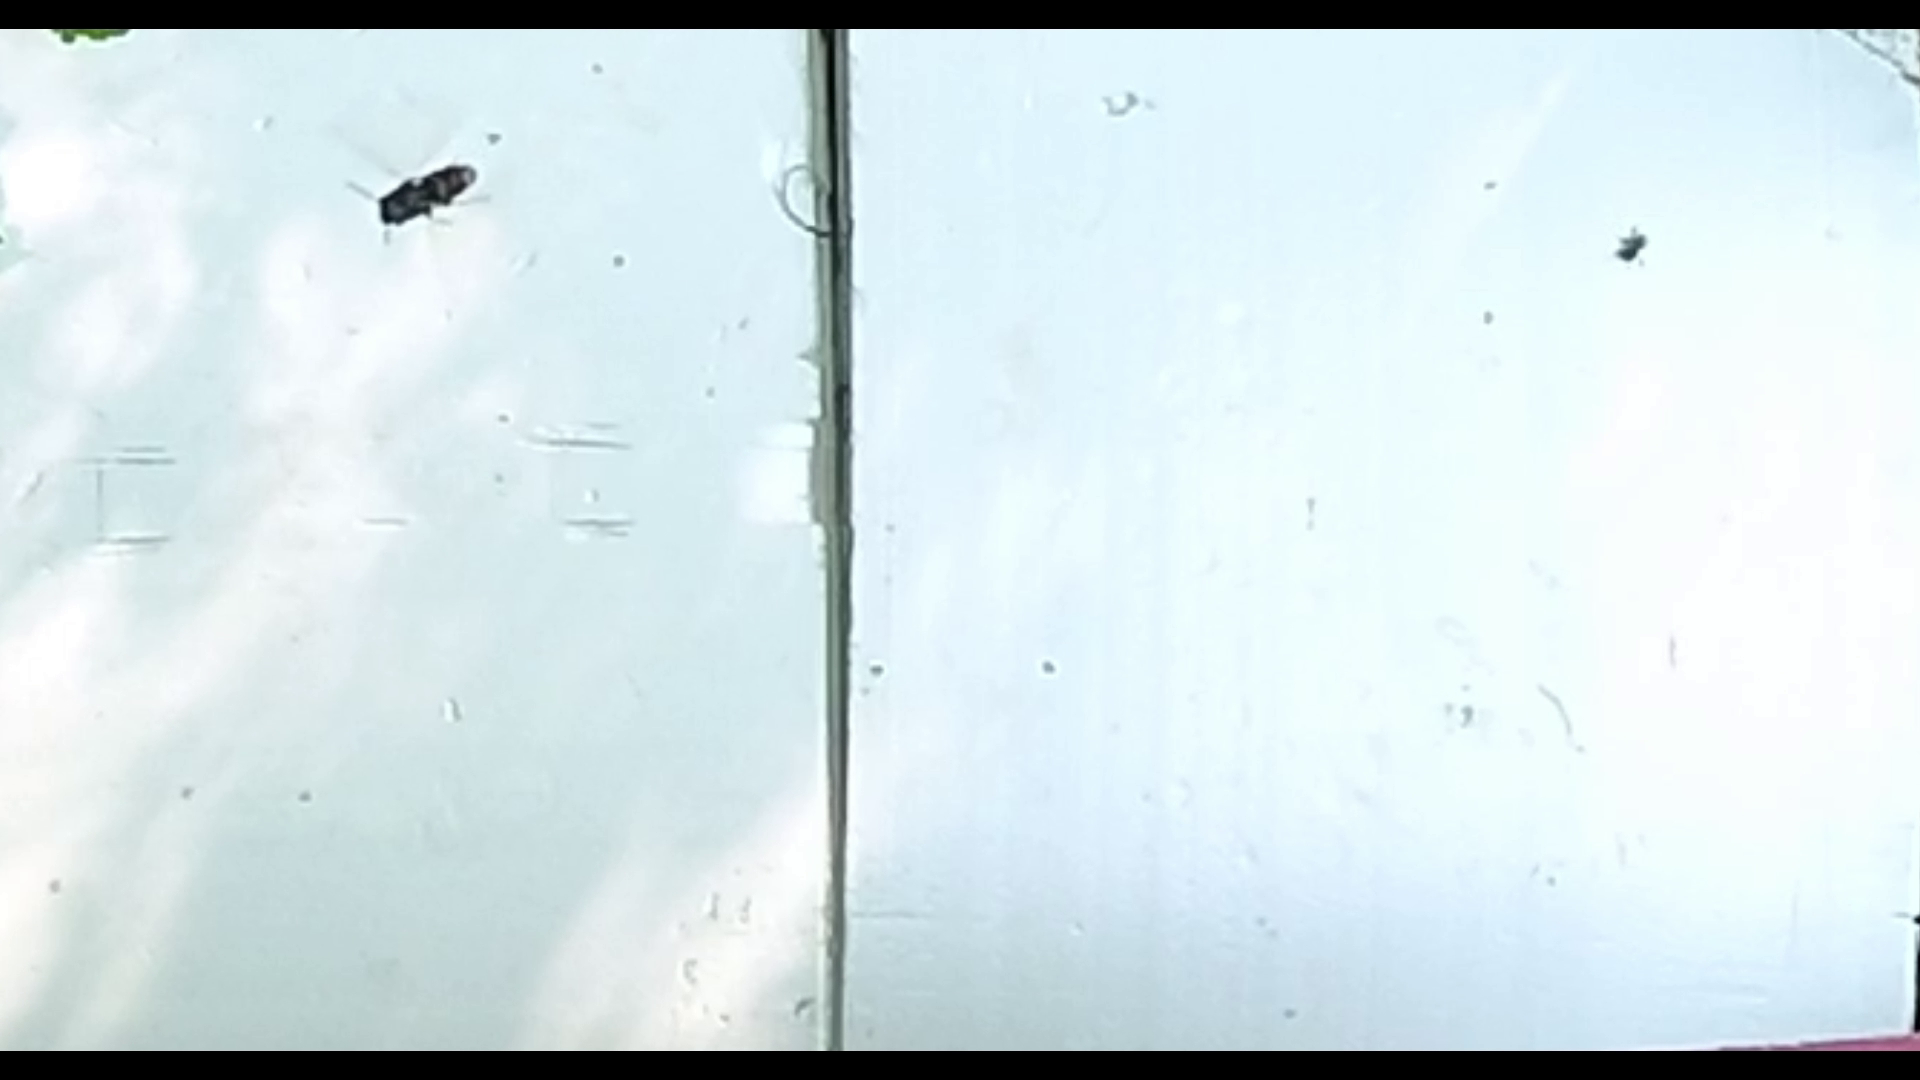Asian_hornets: (332, 116, 521, 266)
